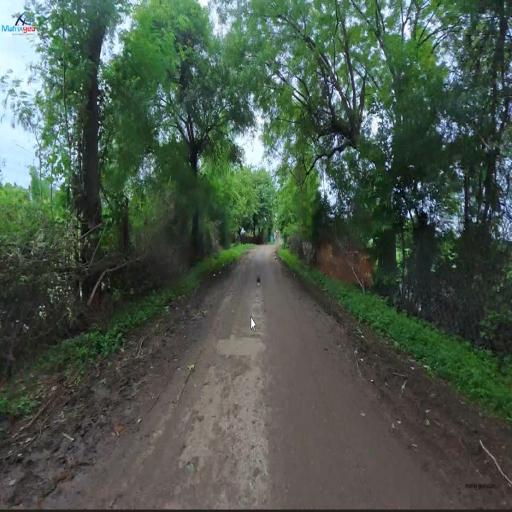ravelling: (172, 302, 278, 475)
